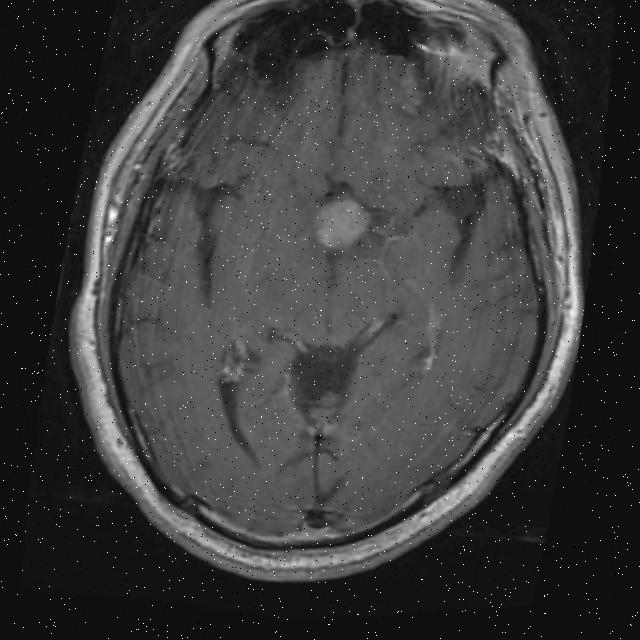Pituitary: (311, 193, 374, 255)
